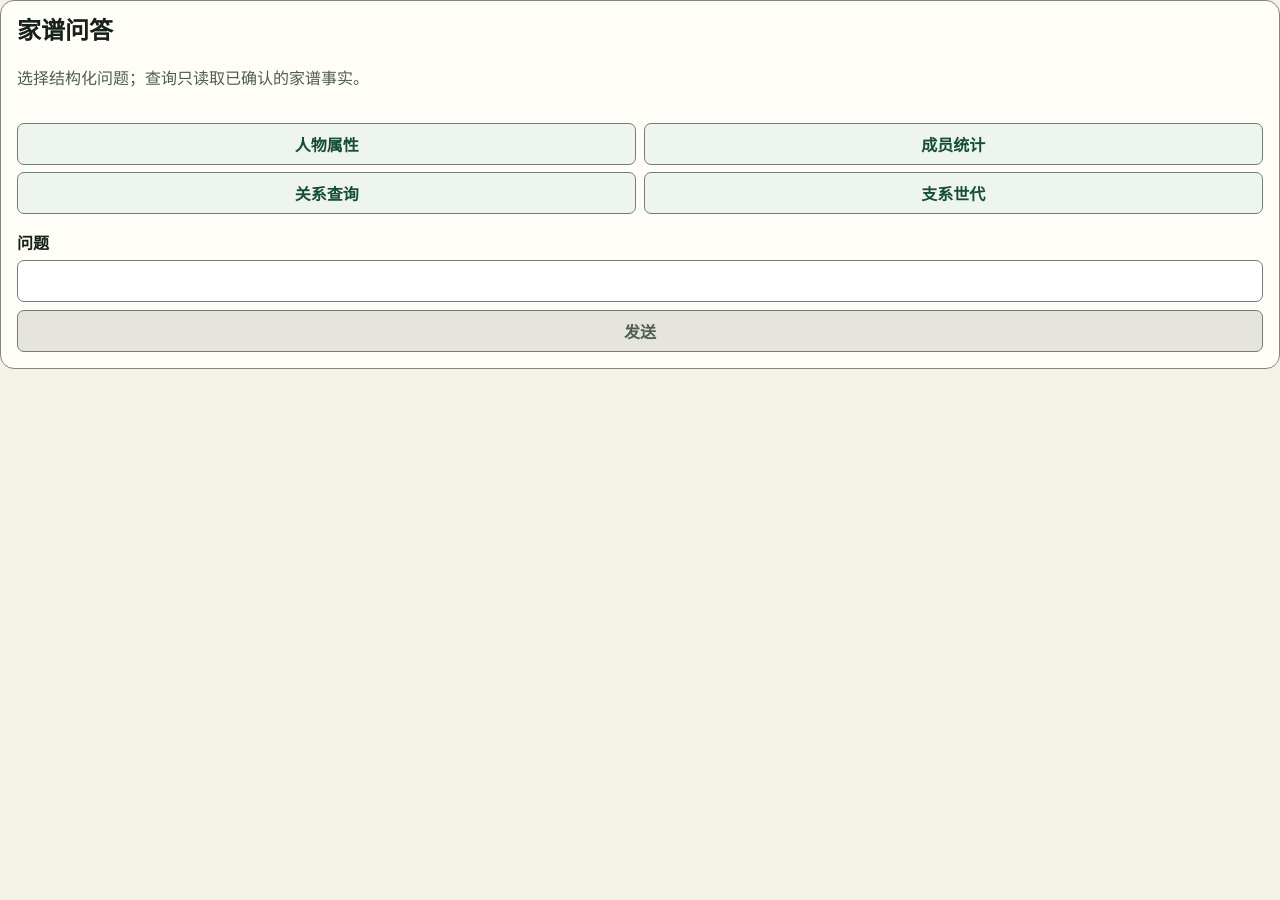
Test: controlled chat UI › allows only one confirmed request at a time so an older completion cannot clear a newer question
In the field named "对话问题": [640, 281] box [17,260,1263,302], type "第一个问题"
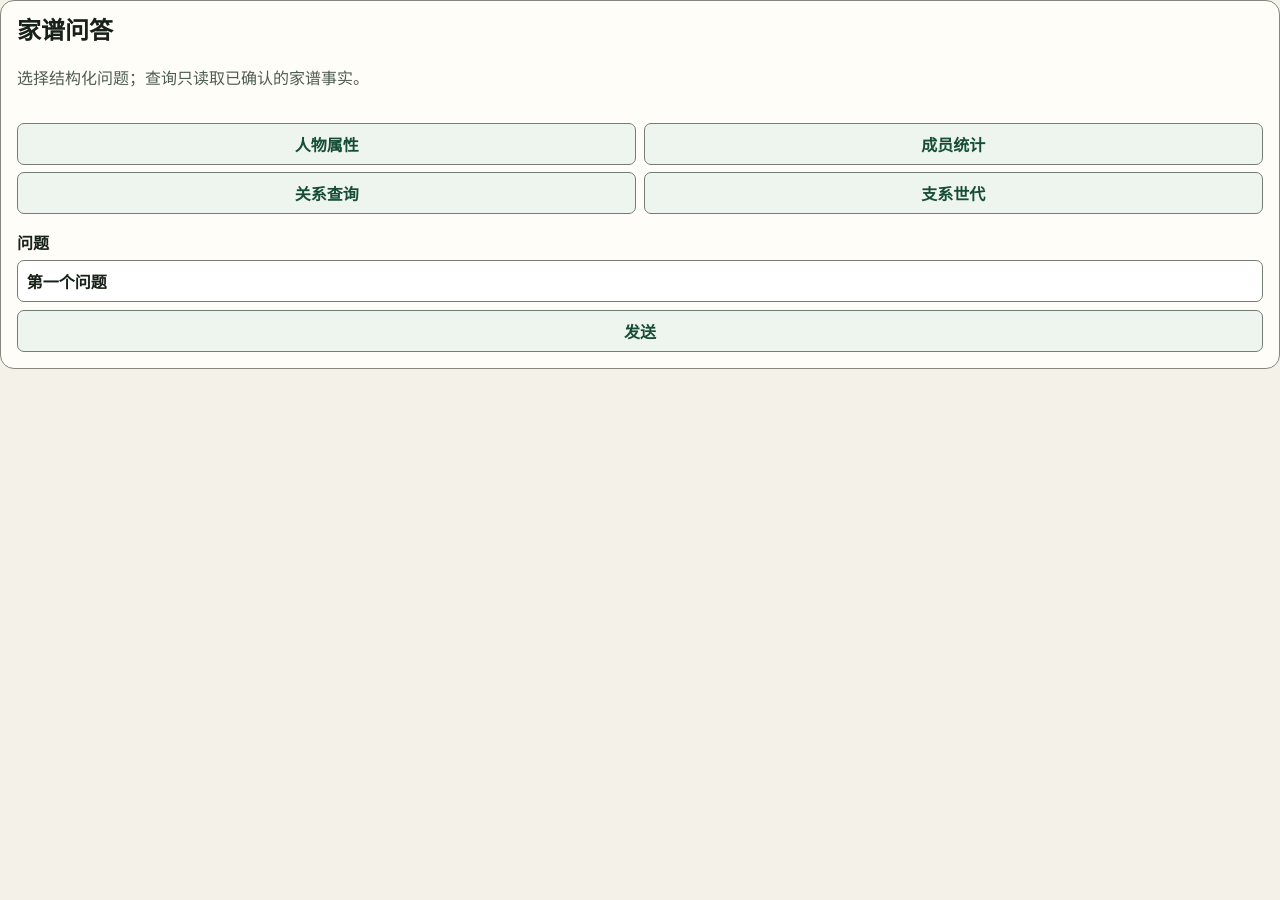
Click the button "发送": [640, 332] box [17,310,1263,352]
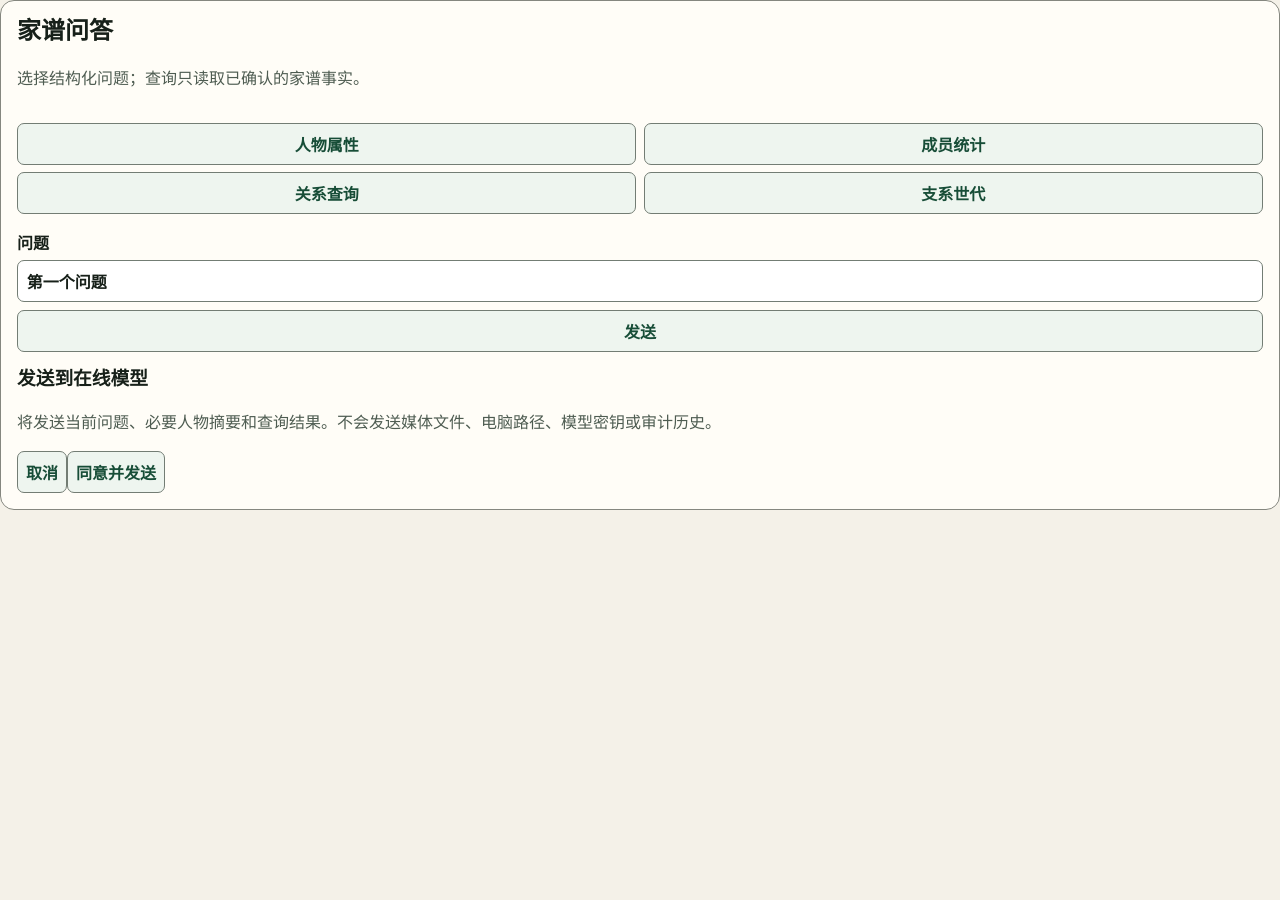
Click the button "同意并发送": [116, 472] box [67,451,165,493]
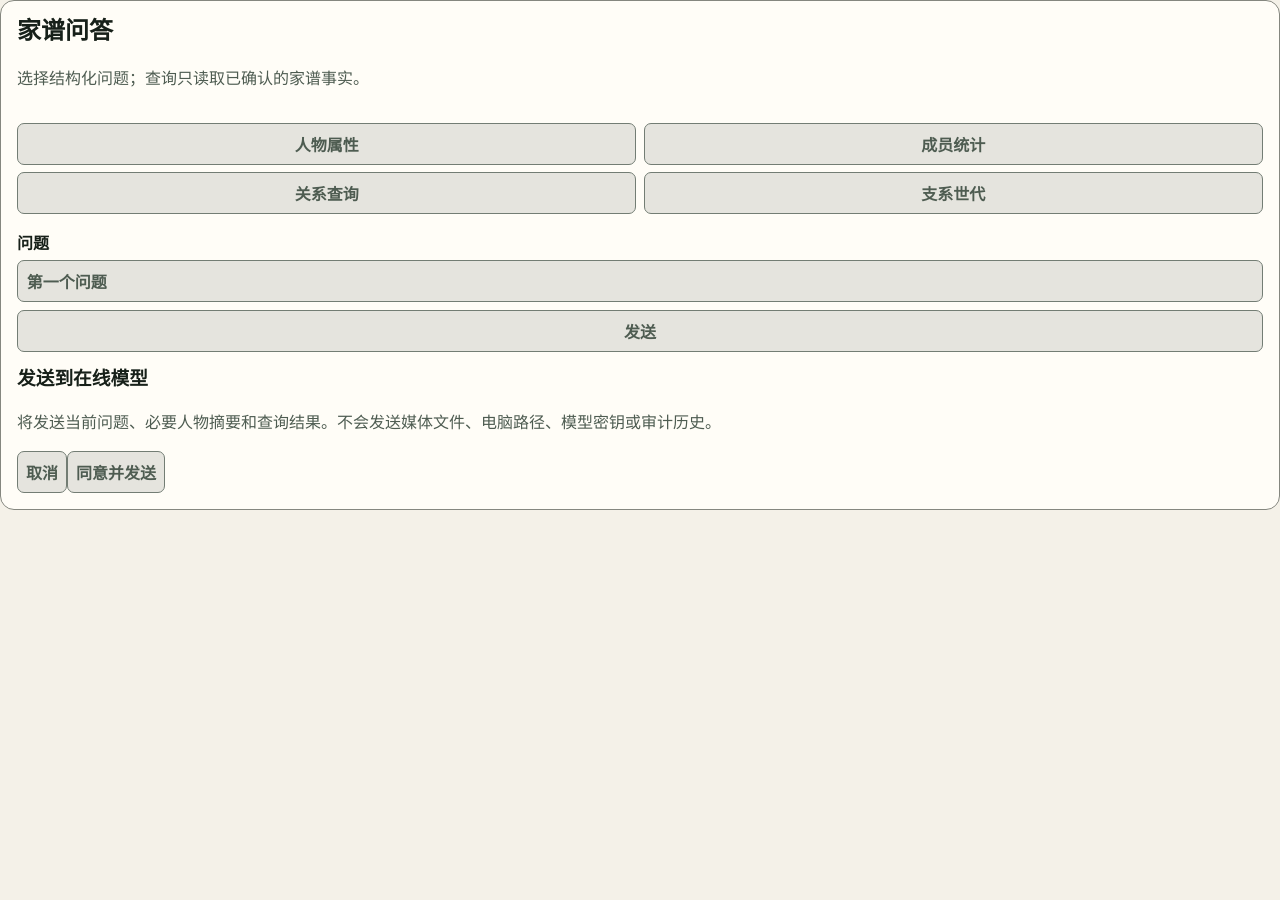
Check: the field named "对话问题" is disabled, box [17,260,1263,302]
Check: the button "发送" is disabled, box [17,310,1263,352]
Submit the form "发送", box [17,230,1263,352]
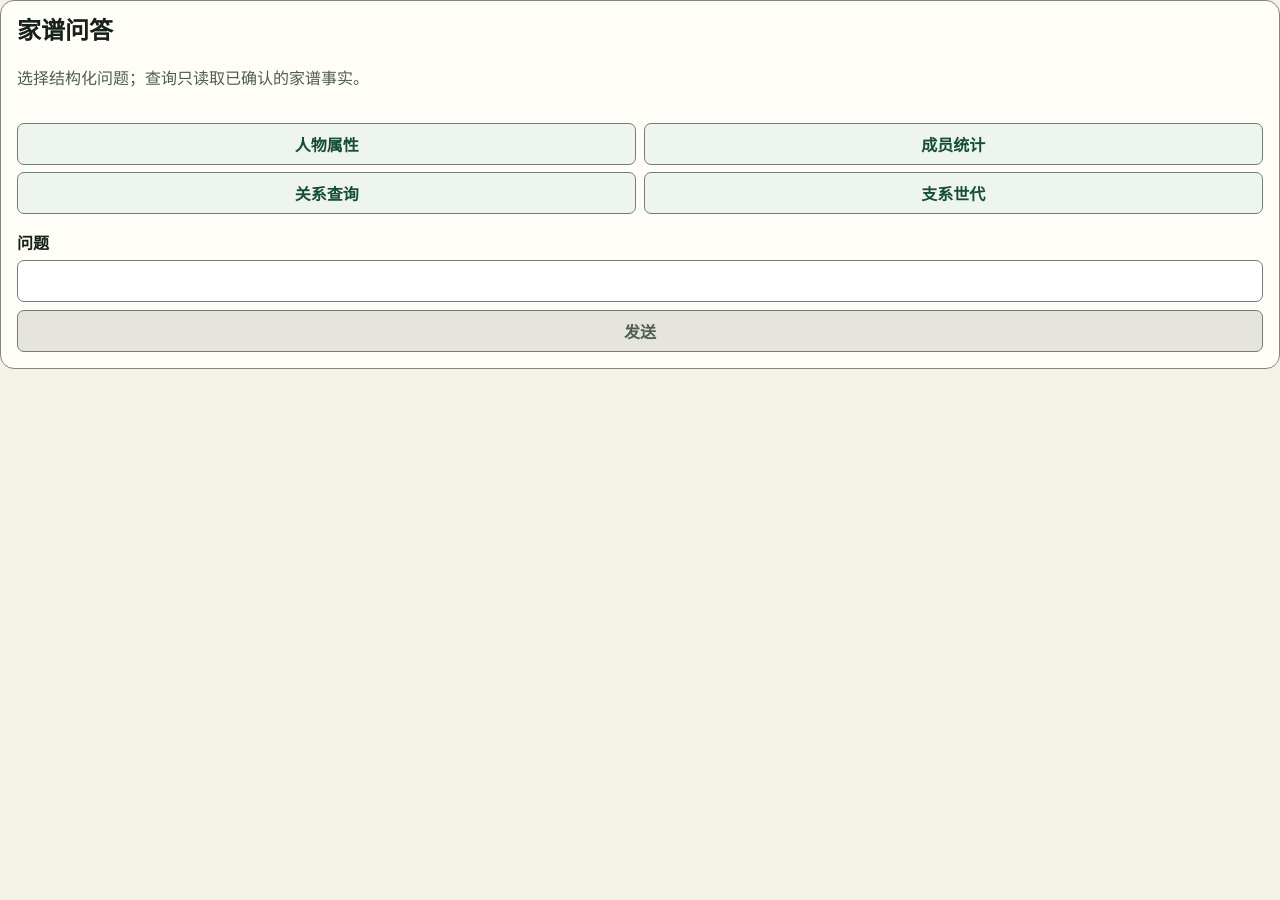
Check: the field named "对话问题" is enabled, box [17,260,1263,302]
